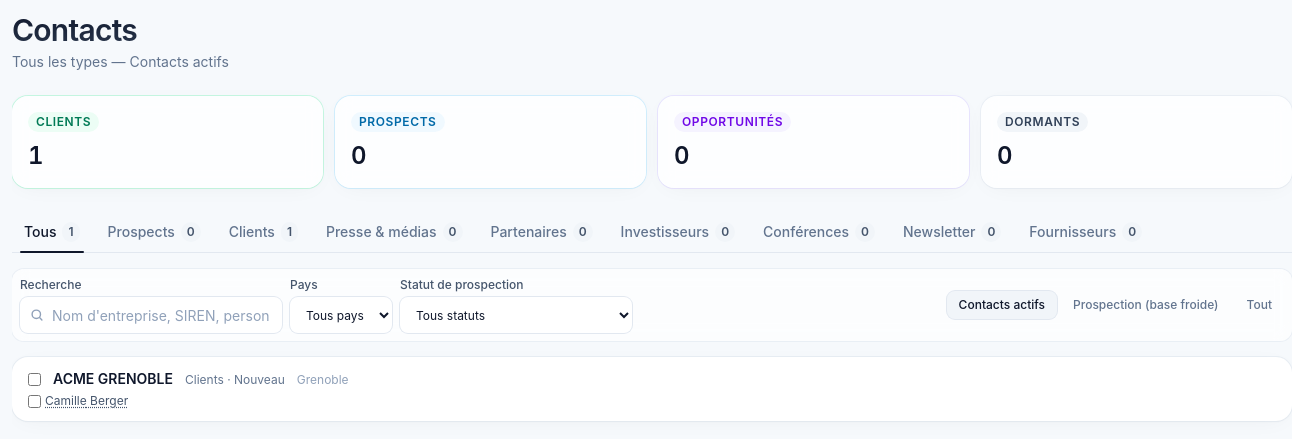
PersonTimelinePage — parcours › cliquer une personne depuis le hub Contacts ouvre SA fiche
Click the link "Camille Berger" at (87, 401), box [45, 393, 128, 409]
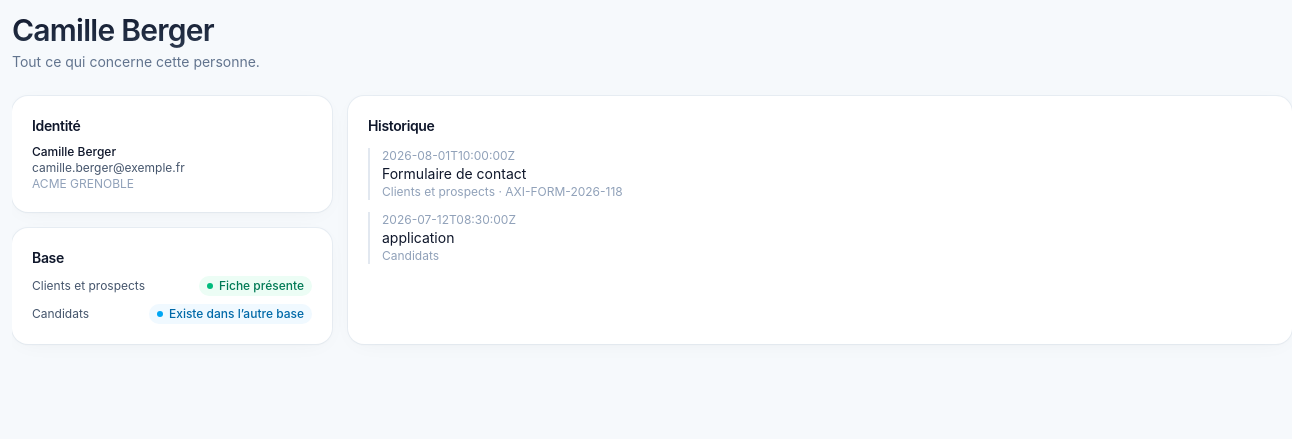
Now the heading "Camille Berger" is shown, box [12, 12, 1291, 48]
